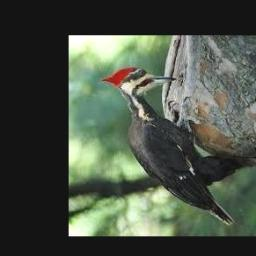Woodpecker: (101, 68, 236, 224)
